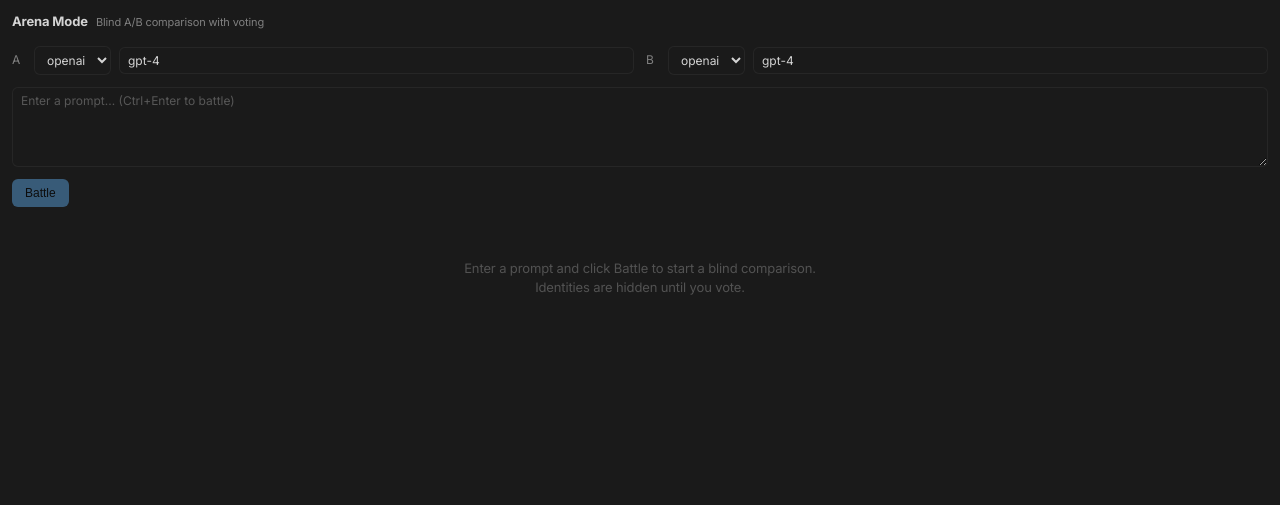
Test case: Given a successful battle › When the user votes "A is better", Then the reveal region announces the winner
In the text box: (640, 126) [12,86,1268,166], type "q"
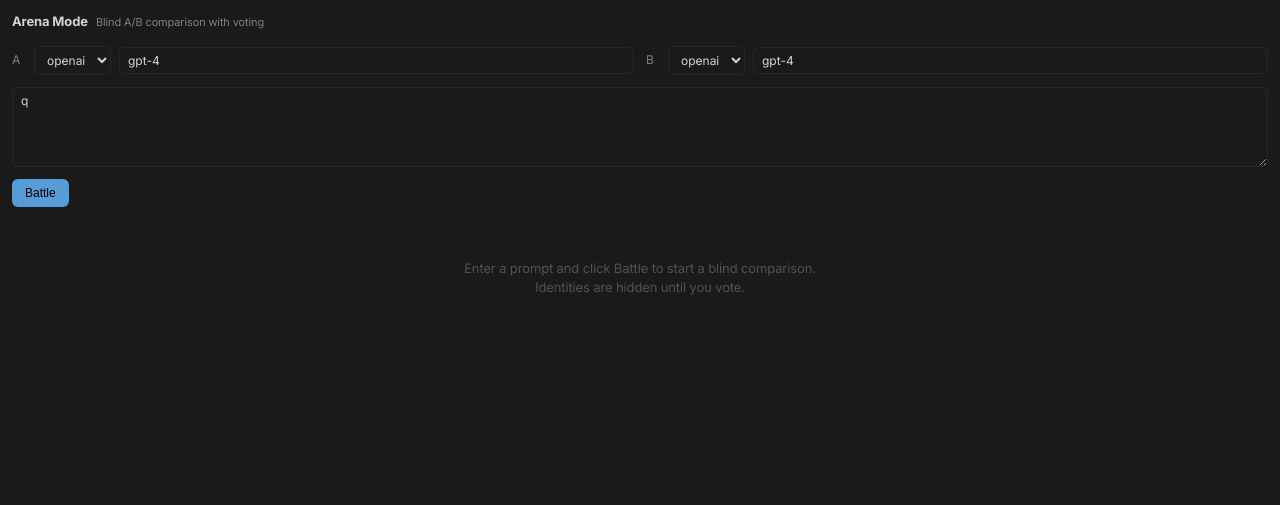
Click the button "Battle": (40, 192) [12,178,69,206]
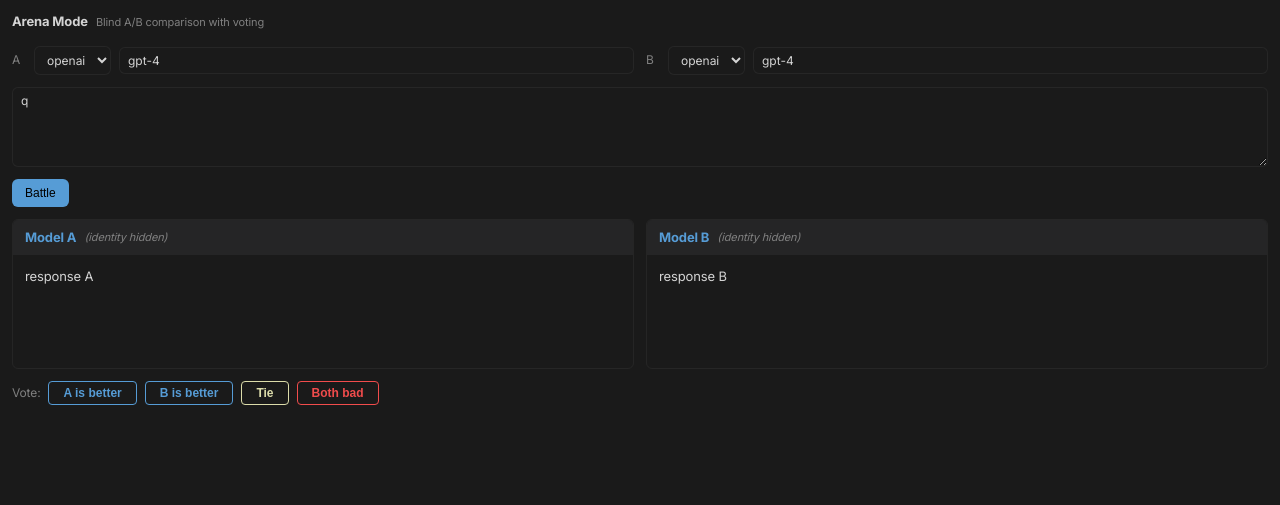
Result: the text "Model A" is shown at [25,228,76,247]
Click the button with aria-label "Vote: A is better": (93, 392) [48,380,137,404]
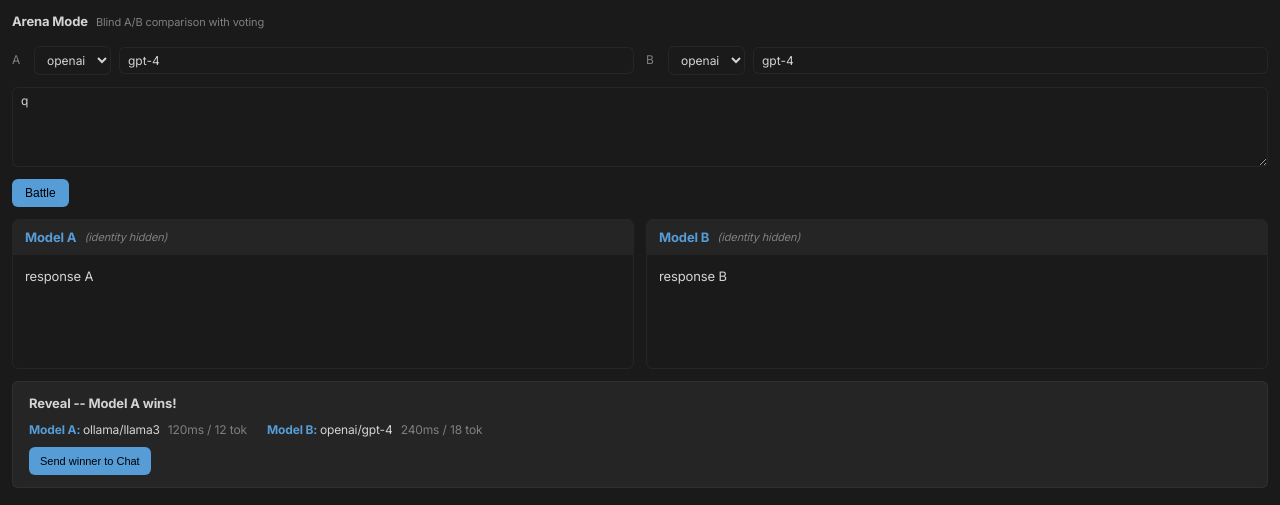
Result: the element named "battle reveal" is shown at [12,380,1268,488]
Result: the text "Reveal -- Model A wins!" is shown at [29,394,176,410]
